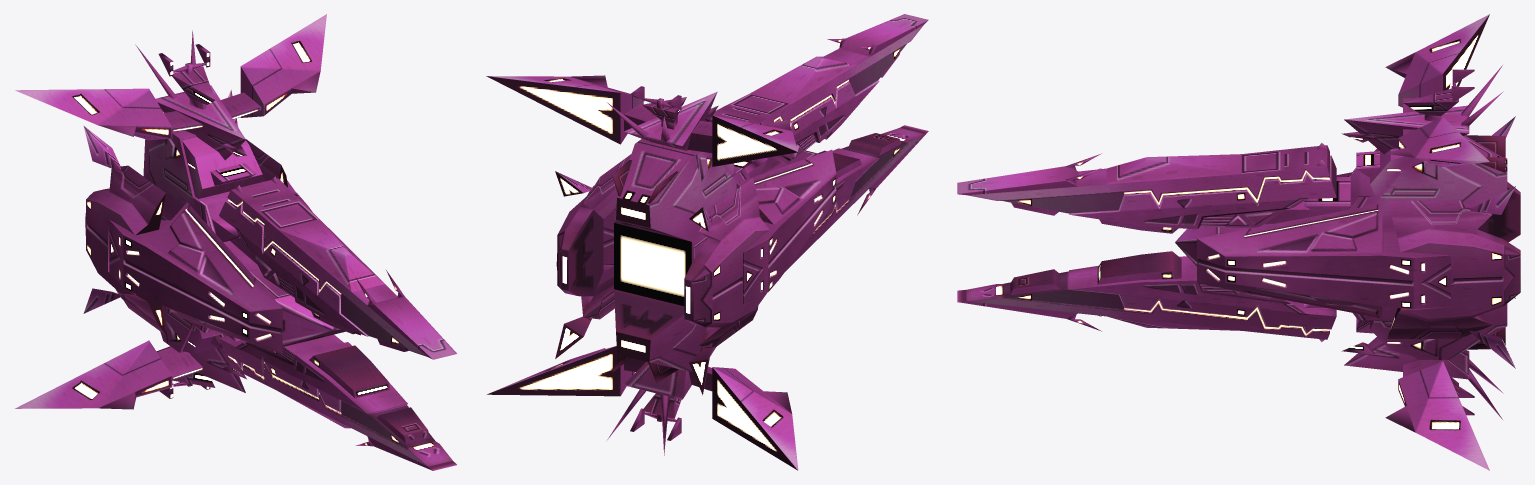
3 renders of one model, left to right at view 1: azimuth 30°, elevation 25°; view 2: azimuth 150°, elevation 25°; view 3: azimuth 270°, elevation 25°, orthographic. The views are drawn at different scales.
Visible parts, largest first — view 1: body; view 2: body; view 3: body.
Part boxes in pixels (bbox=[...]): body: bbox=[15, 14, 456, 470]; body: bbox=[486, 14, 928, 470]; body: bbox=[957, 14, 1520, 470].
Bounding box in the file's own units: 219 × 228 × 352.
Materials: 1 (1 with a texture image).
